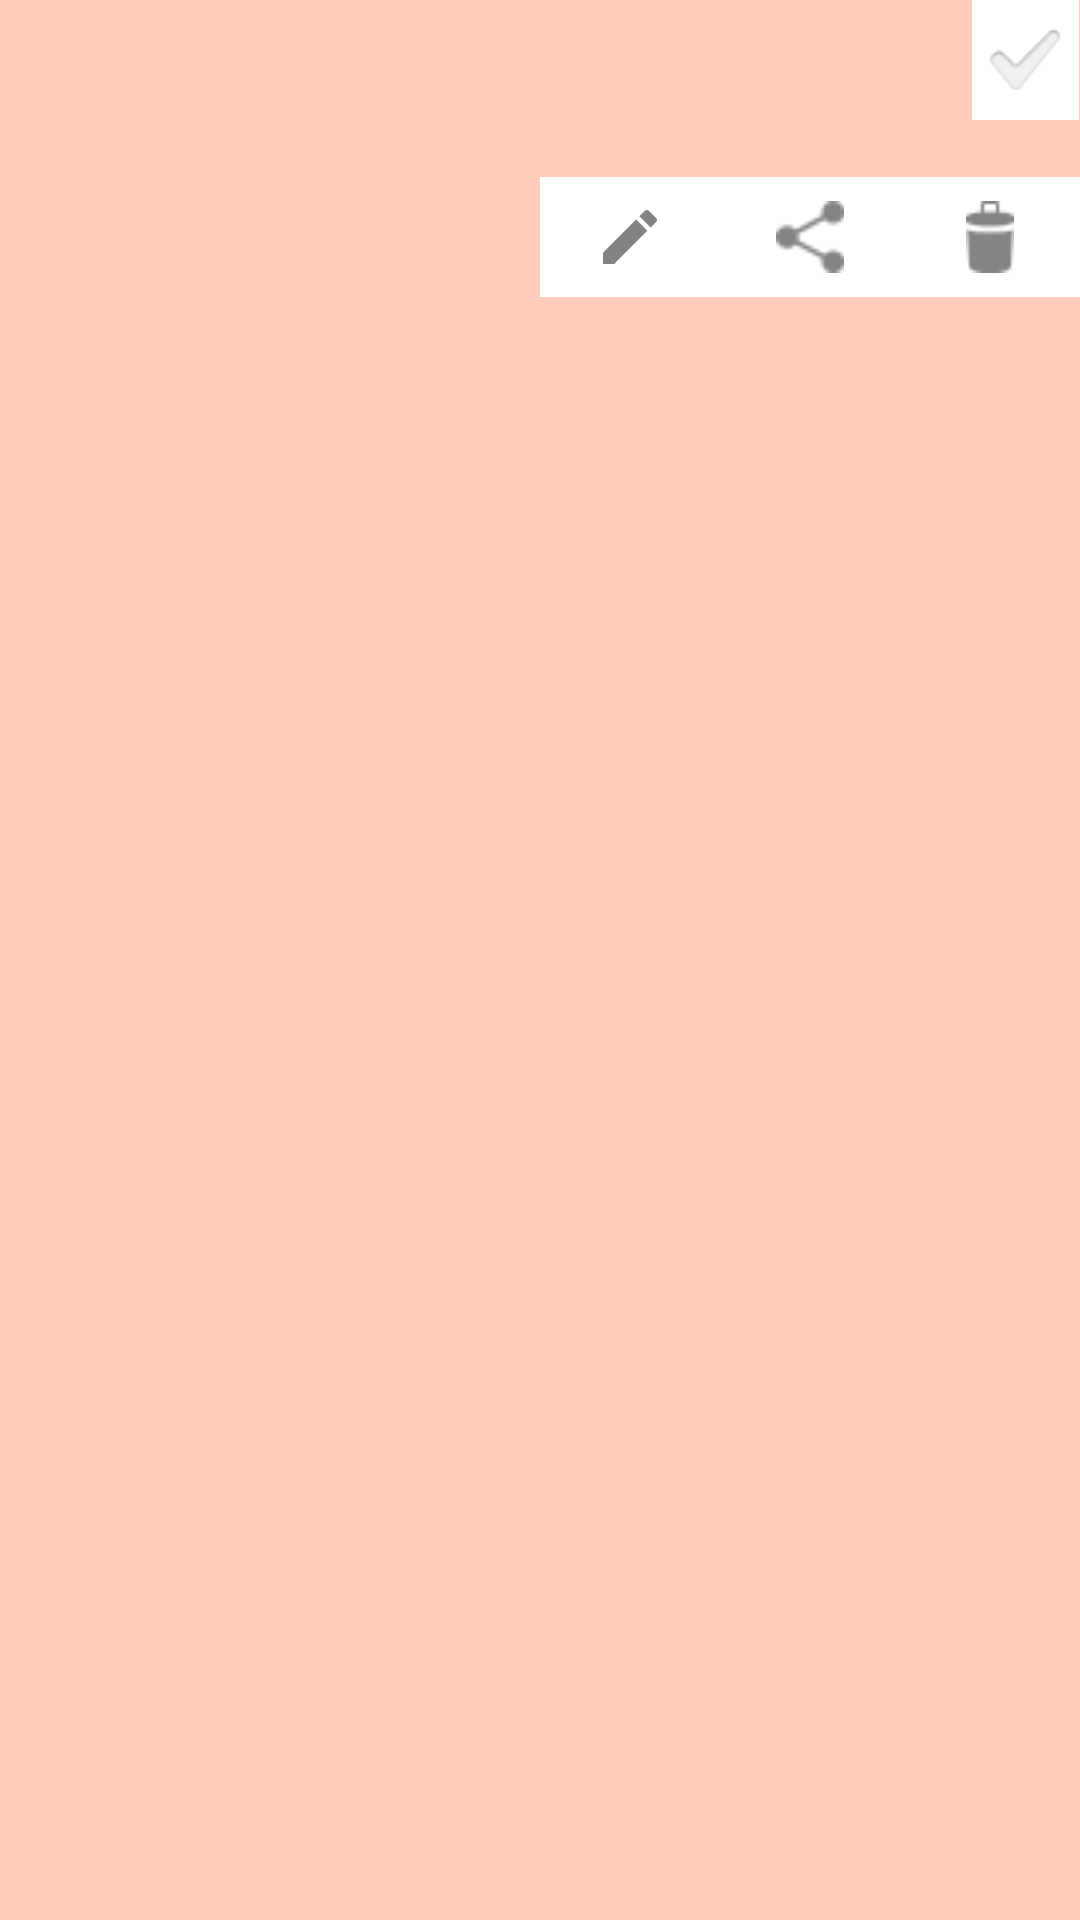

Where icons sit on this 1080px×1920px app screen, as rect(x1, y1, x2, y2):
check off: rect(972, 0, 1079, 120)
share: rect(776, 201, 844, 273)
